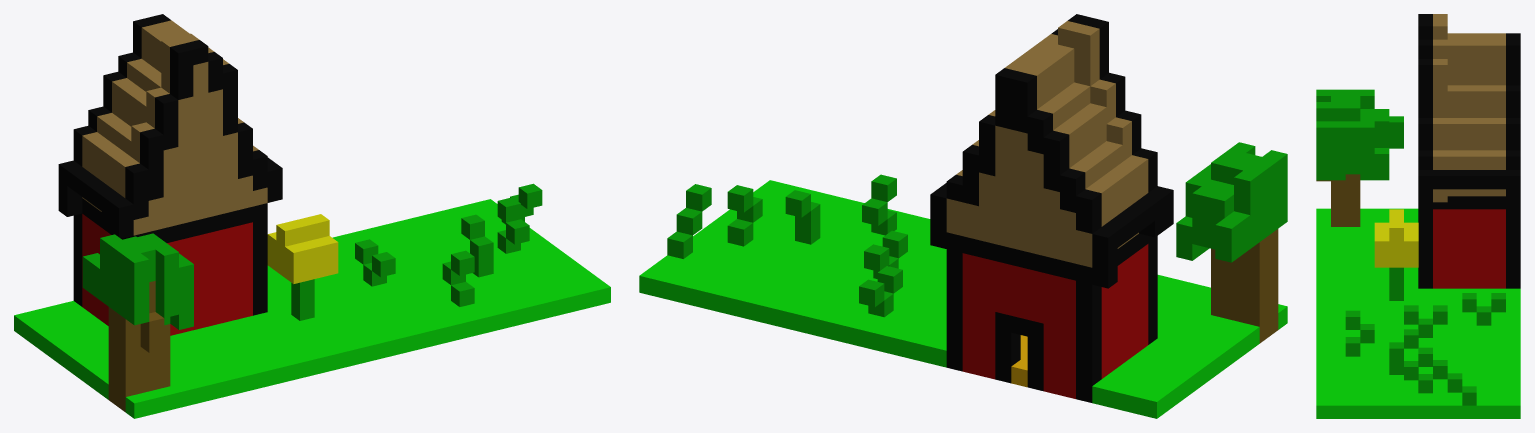
The model's file is House.gltf.
3 renders of one model, left to right at view 1: azimuth 30°, elevation 25°; view 2: azimuth 150°, elevation 25°; view 3: azimuth 270°, elevation 25°, orthographic. The views are drawn at different scales.
Size of the model in its own units: 32 by 19 by 14.
